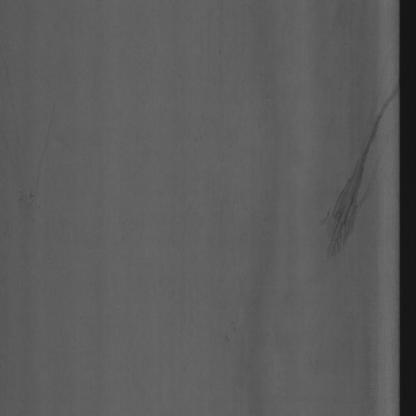water_spot: (315, 65, 399, 288)
